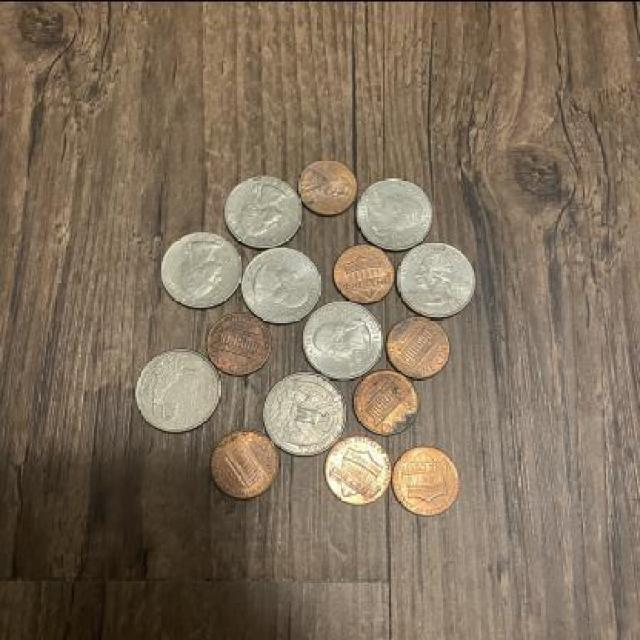Penny: (392, 441, 463, 517), (209, 426, 280, 499), (324, 436, 396, 506), (352, 369, 420, 437), (206, 312, 274, 377), (384, 314, 452, 378), (330, 242, 396, 304), (298, 158, 360, 217)
Quarter: (132, 348, 223, 432), (264, 371, 348, 454), (391, 241, 477, 317), (160, 230, 243, 308), (302, 300, 382, 380), (242, 246, 322, 325), (357, 172, 435, 250), (224, 177, 304, 248)
